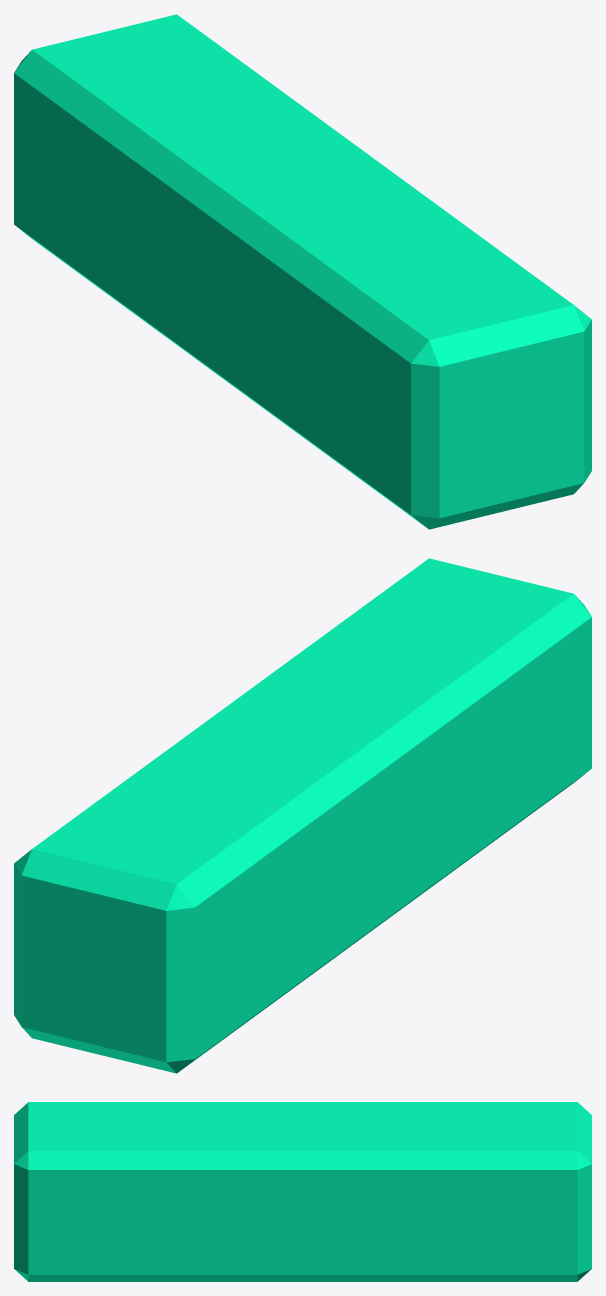
Rendered from SM_StandardBlock2.fbx.
3 renders of one model, top to bottom at view 1: azimuth 30°, elevation 25°; view 2: azimuth 150°, elevation 25°; view 3: azimuth 270°, elevation 25°, orthographic. The views are drawn at different scales.
Parts seen in each view (by area): view 1: pCube1; view 2: pCube1; view 3: pCube1.
Part boxes in pixels (bbox=[...]): pCube1: bbox=[14, 14, 591, 529]; pCube1: bbox=[14, 558, 591, 1073]; pCube1: bbox=[14, 1102, 591, 1281].
Bounding box in the file's own units: 10 × 40.01 × 10.
